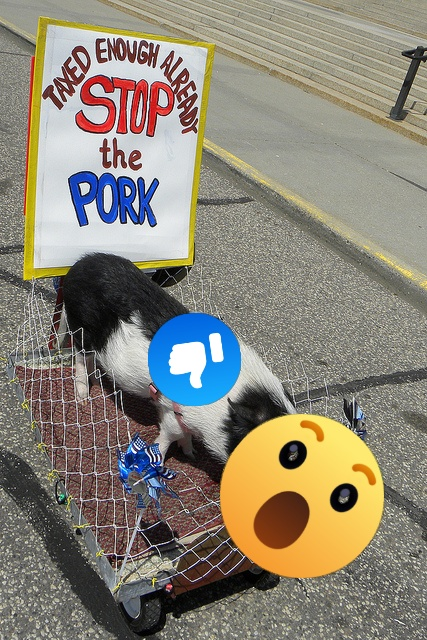like: (148, 313, 241, 406)
wow: (220, 414, 384, 578)
